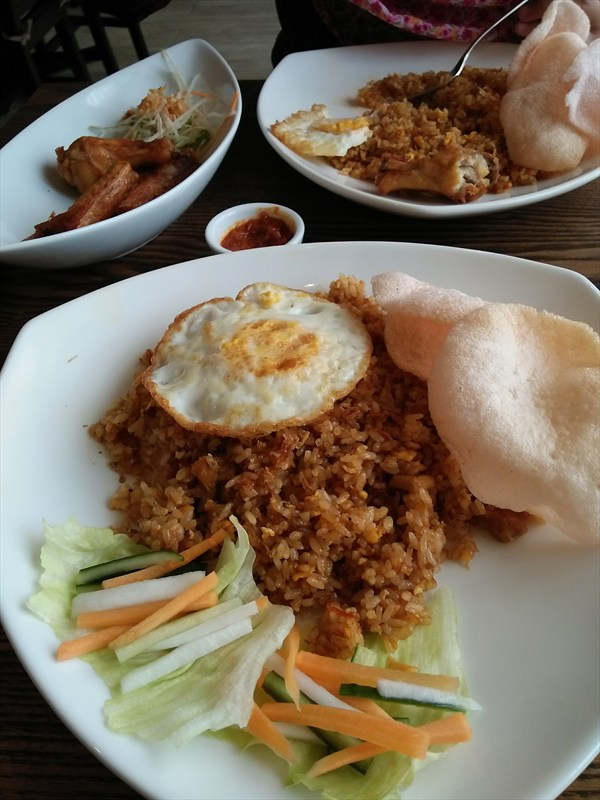Nasi Goreng: (39, 85, 490, 715)
